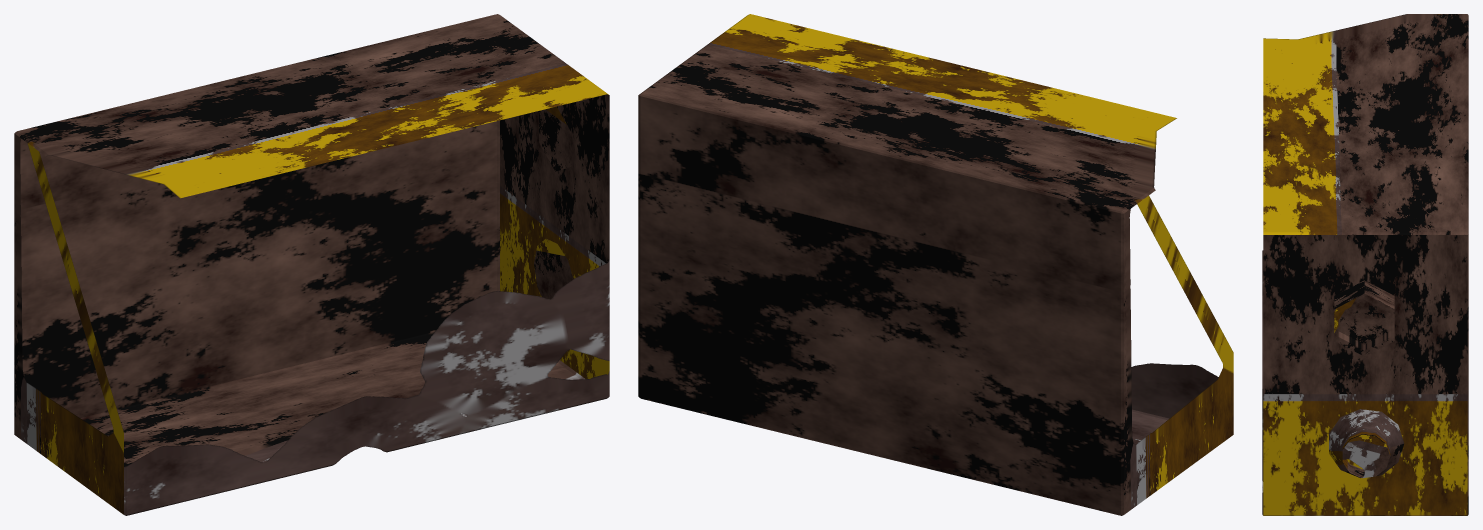
The model's file is Bateria.fbx.
3 views of the same model, side by side, from view 1: azimuth 30°, elevation 25°; view 2: azimuth 150°, elevation 25°; view 3: azimuth 270°, elevation 25° (orthographic). The views are drawn at different scales.
Visible parts, largest first — view 1: Batería2; view 2: Batería2; view 3: Batería2.
Part boxes in pixels (left/top/right/bottom): Batería2: left=14, top=14, right=609, bottom=515; Batería2: left=638, top=14, right=1233, bottom=515; Batería2: left=1262, top=14, right=1468, bottom=515.
Size of the model in its own units: 68.27 by 38.55 by 25.41.
